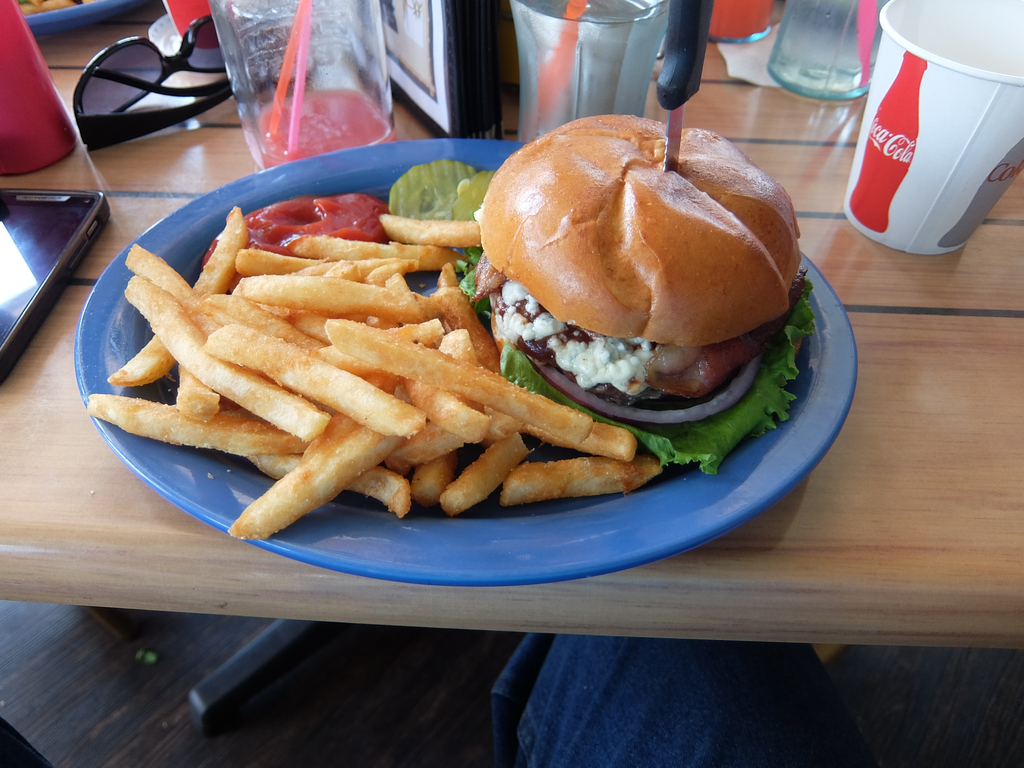French fries: (76, 199, 647, 540)
